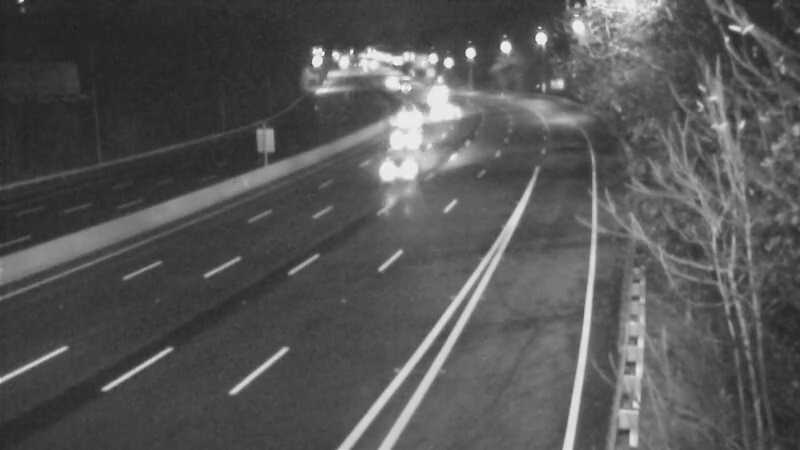vehicle: (367, 122, 447, 202), (379, 57, 429, 107), (408, 72, 458, 122), (417, 87, 467, 137), (379, 93, 429, 143), (384, 111, 434, 161)
